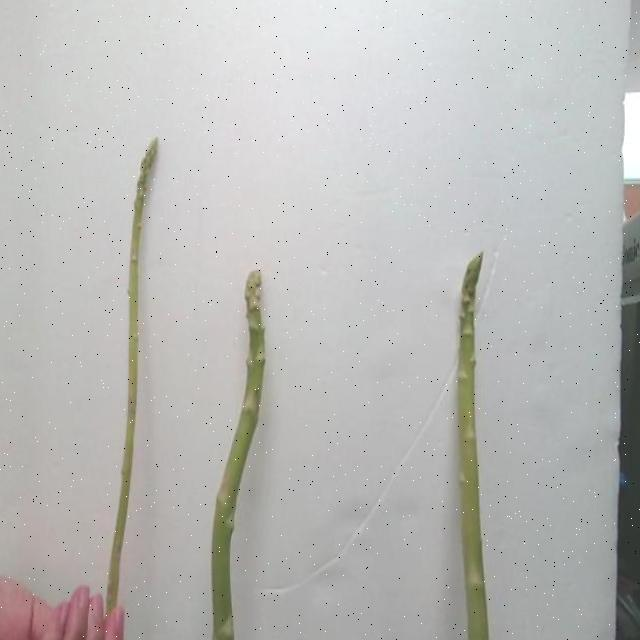aspargus: (108, 140, 159, 616), (210, 272, 267, 640), (453, 256, 493, 640)
